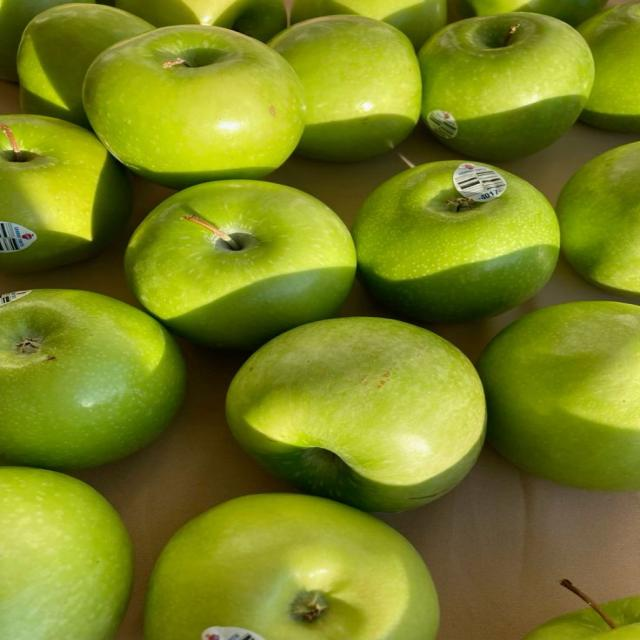apple: (227, 317, 485, 512), (146, 494, 438, 639), (125, 181, 355, 349), (84, 25, 304, 188), (353, 161, 559, 322), (0, 290, 186, 468), (478, 301, 639, 491), (419, 13, 593, 161), (0, 467, 133, 639), (270, 16, 420, 161), (0, 115, 132, 272), (17, 3, 153, 127), (556, 143, 639, 295), (579, 2, 639, 133), (0, 0, 94, 81), (291, 0, 446, 48), (115, 0, 286, 41), (524, 580, 639, 639), (449, 0, 606, 26)
